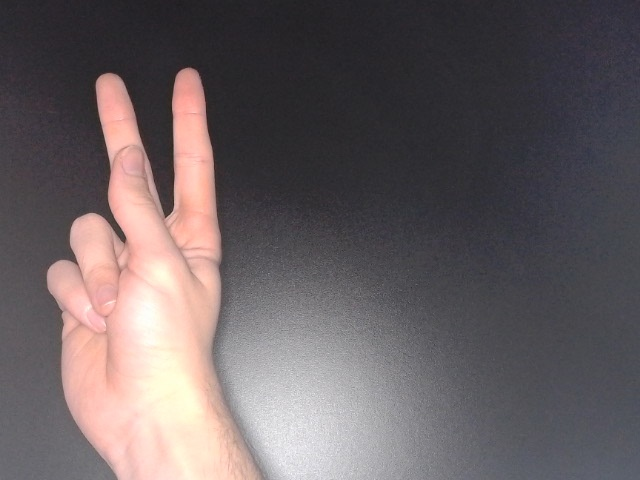k: (42, 62, 228, 472)
